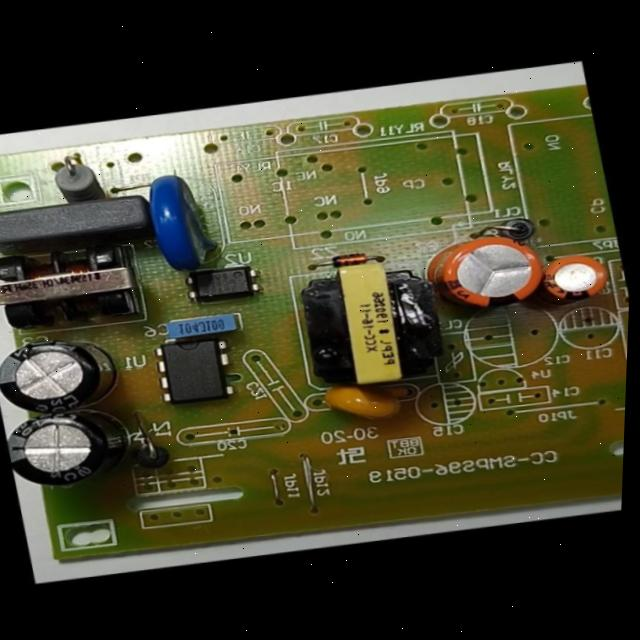Cap1: (424, 228, 555, 316)
Cap2: (542, 252, 614, 304)
Cap3: (0, 331, 126, 419)
Cap4: (0, 403, 139, 495)
MOSFET: (148, 335, 242, 404)
Mov: (136, 169, 222, 274)
Resistor: (44, 149, 112, 206)
Transformer: (283, 252, 454, 396), (0, 238, 151, 341)
